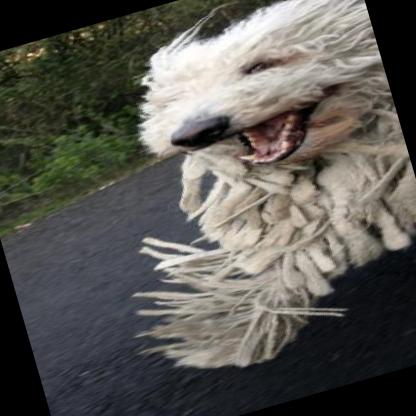komondor: (36, 0, 416, 401)
